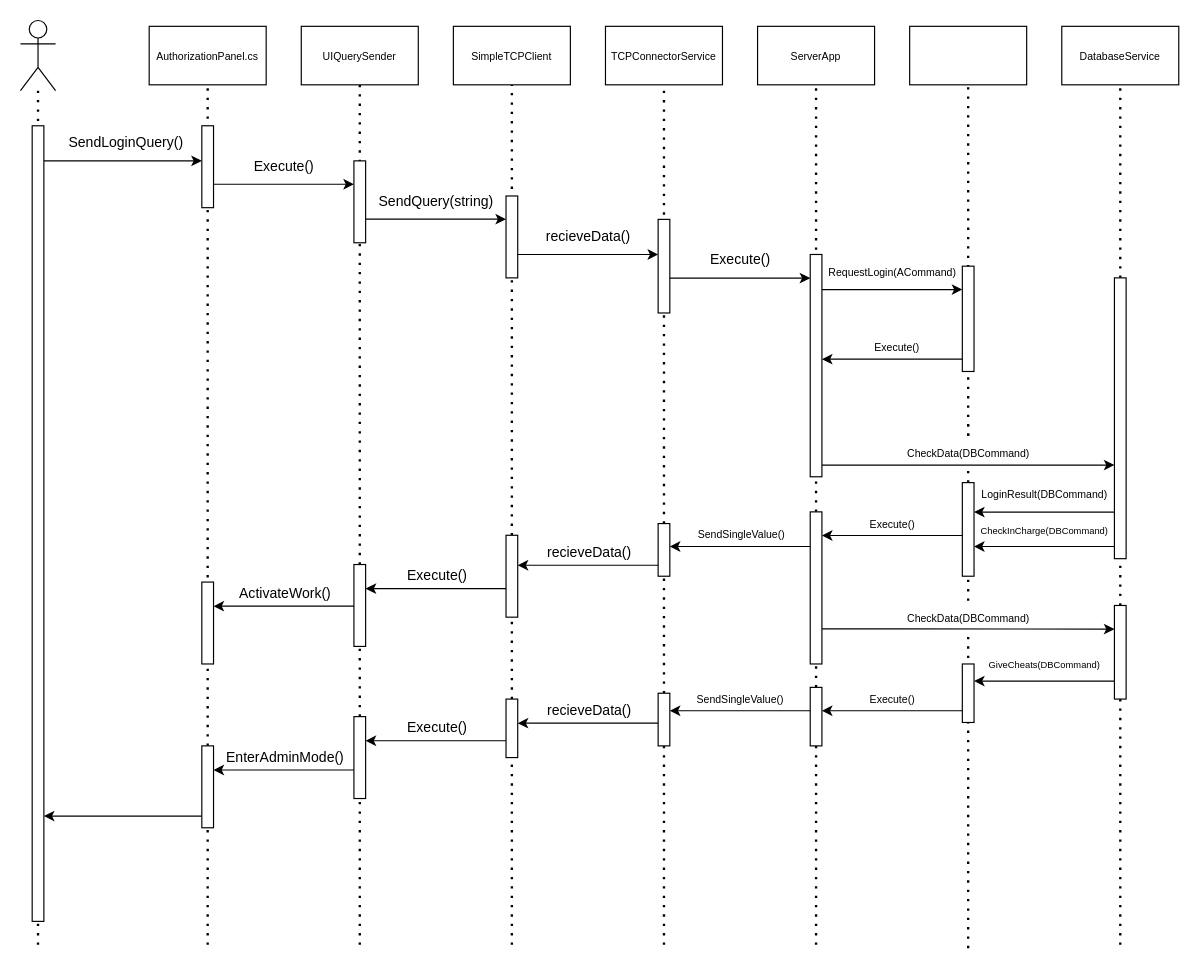
This 1199x971 diagram has some shape labels left out. Here are the shapes that lost their labels. From the top down, the box of each, then its label:
(19, 19, 56, 91): User
(909, 25, 1027, 85): AccountService
